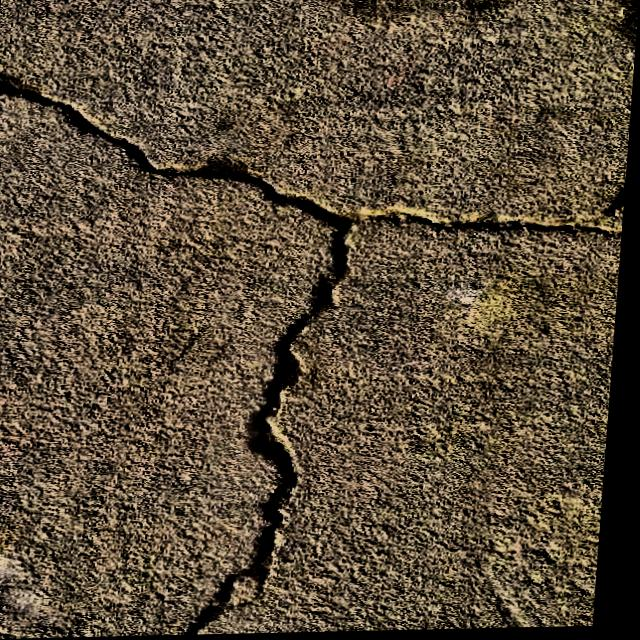cracks: (0, 76, 628, 239), (189, 222, 354, 636)
